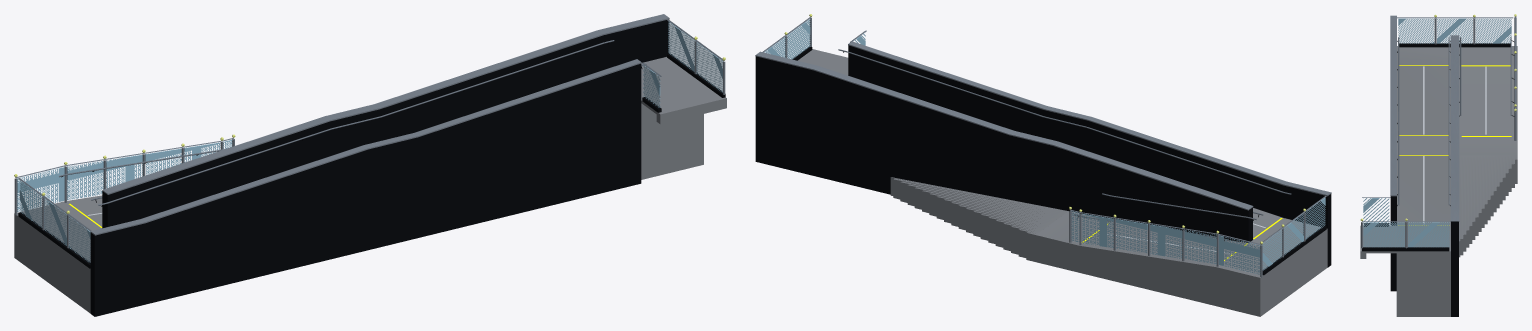
File: tt_struct_ramp_sw.glb
3 views of the same model, side by side, from view 1: azimuth 30°, elevation 25°; view 2: azimuth 150°, elevation 25°; view 3: azimuth 270°, elevation 25° (orthographic). The views are drawn at different scales.
Visible parts, largest first — view 1: Ramp_Walls, Ramp_Deck, Guard_Pane_Scissor, Wall_Caps, Handrail, Guard_Kerb, Guard_Posts, Guard_Rail; view 2: Ramp_Walls, Ramp_Deck, Guard_Pane_Scissor, Wall_Caps, Handrail, Guard_Posts, Guard_Rail, Guard_Kerb; view 3: Ramp_Deck, Guard_Pane_Scissor, Wall_Caps, Ramp_Walls, Guard_Kerb, Handrail, Guard_Rail, Guard_Posts, Court_Lines, Court_Line_Amber.
Part boxes in pixels (bbox=[...]): Ramp_Walls: bbox=[90, 20, 669, 316]; Ramp_Deck: bbox=[14, 57, 726, 313]; Guard_Pane_Scissor: bbox=[17, 21, 723, 262]; Wall_Caps: bbox=[90, 14, 669, 235]; Handrail: bbox=[59, 40, 646, 205]; Guard_Kerb: bbox=[18, 53, 725, 268]; Guard_Posts: bbox=[14, 41, 725, 248]; Guard_Rail: bbox=[15, 19, 724, 231]; Ramp_Walls: bbox=[755, 45, 1331, 267]; Ramp_Deck: bbox=[798, 49, 1327, 316]; Guard_Pane_Scissor: bbox=[764, 19, 1325, 274]; Wall_Caps: bbox=[755, 41, 1331, 210]; Handrail: bbox=[838, 49, 1291, 240]; Guard_Posts: bbox=[785, 18, 1305, 277]; Guard_Rail: bbox=[762, 17, 1326, 244]; Guard_Kerb: bbox=[792, 46, 1326, 275]; Ramp_Deck: bbox=[1360, 46, 1517, 316]; Guard_Pane_Scissor: bbox=[1363, 18, 1515, 247]; Wall_Caps: bbox=[1390, 15, 1459, 221]; Ramp_Walls: bbox=[1390, 196, 1458, 316]; Guard_Kerb: bbox=[1362, 43, 1510, 251]; Handrail: bbox=[1398, 37, 1511, 205]; Guard_Rail: bbox=[1362, 17, 1516, 221]; Guard_Posts: bbox=[1361, 18, 1516, 248]; Court_Lines: bbox=[1423, 66, 1486, 224]; Court_Line_Amber: bbox=[1398, 65, 1511, 225].
Size of what is drawn, in the model's own units: 18.46 by 3.56 by 5.2.
9 materials, 6 textured.
